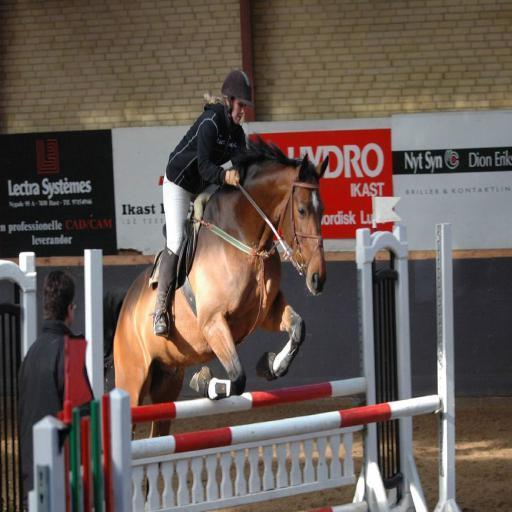horse: (102, 126, 329, 502)
